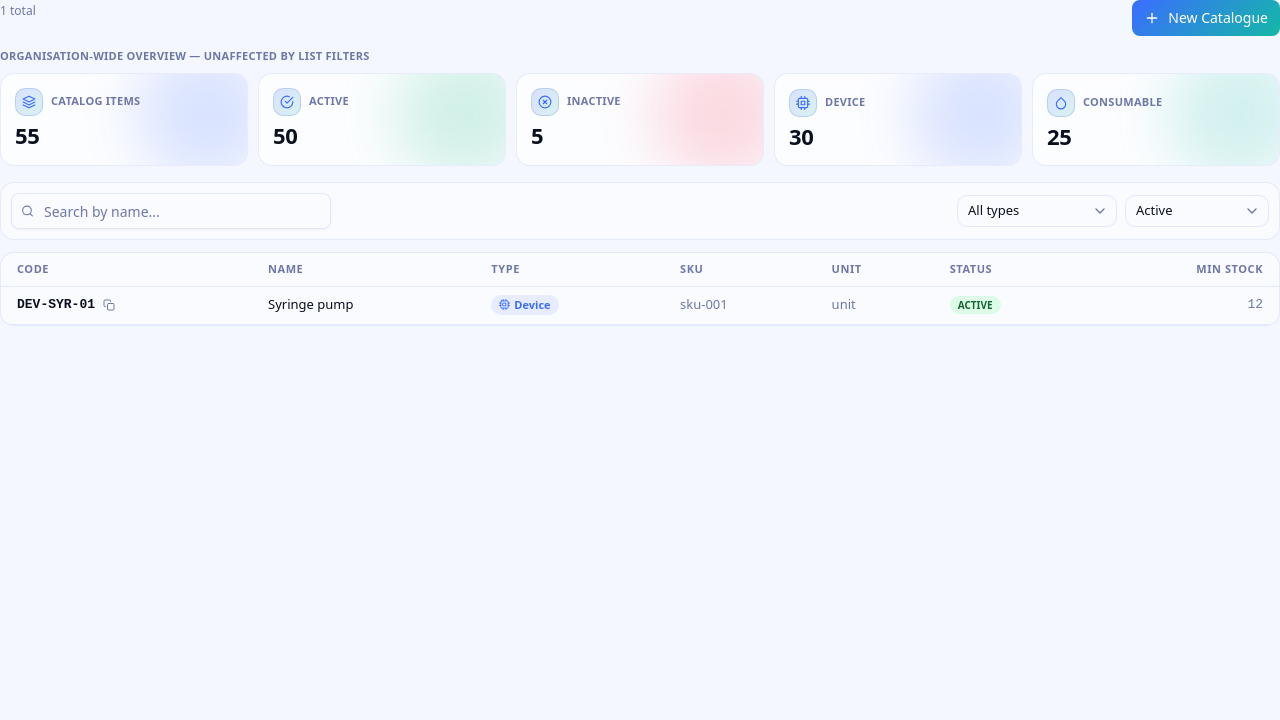
Scenario: InventoryMasterTab — row click opens a detail drawer, Edit lives inside it › a manager clicks a row to open the drawer, then Edit inside it to open the edit modal
The width and height of the screenshot is (1280, 720).
Click the text "Syringe pump" at (311, 304), box [252,286,475,324]
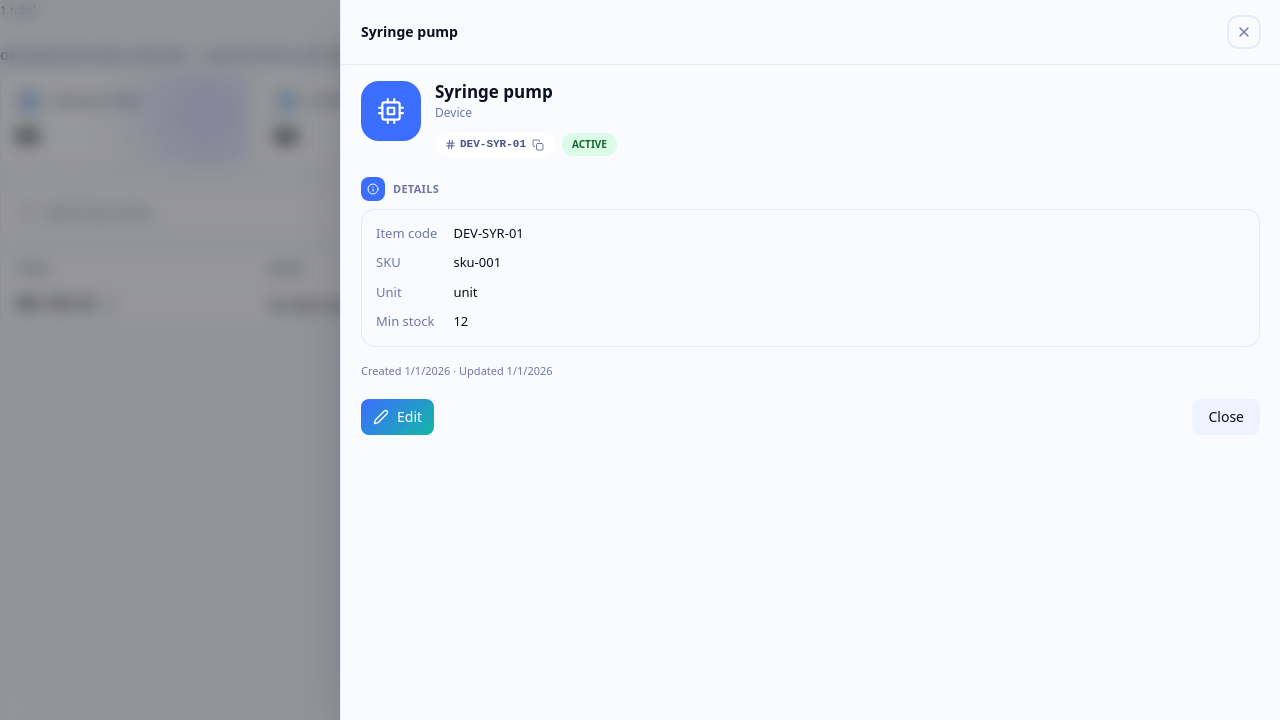
Click the button "Edit" at (398, 417), box [361,399,434,435]
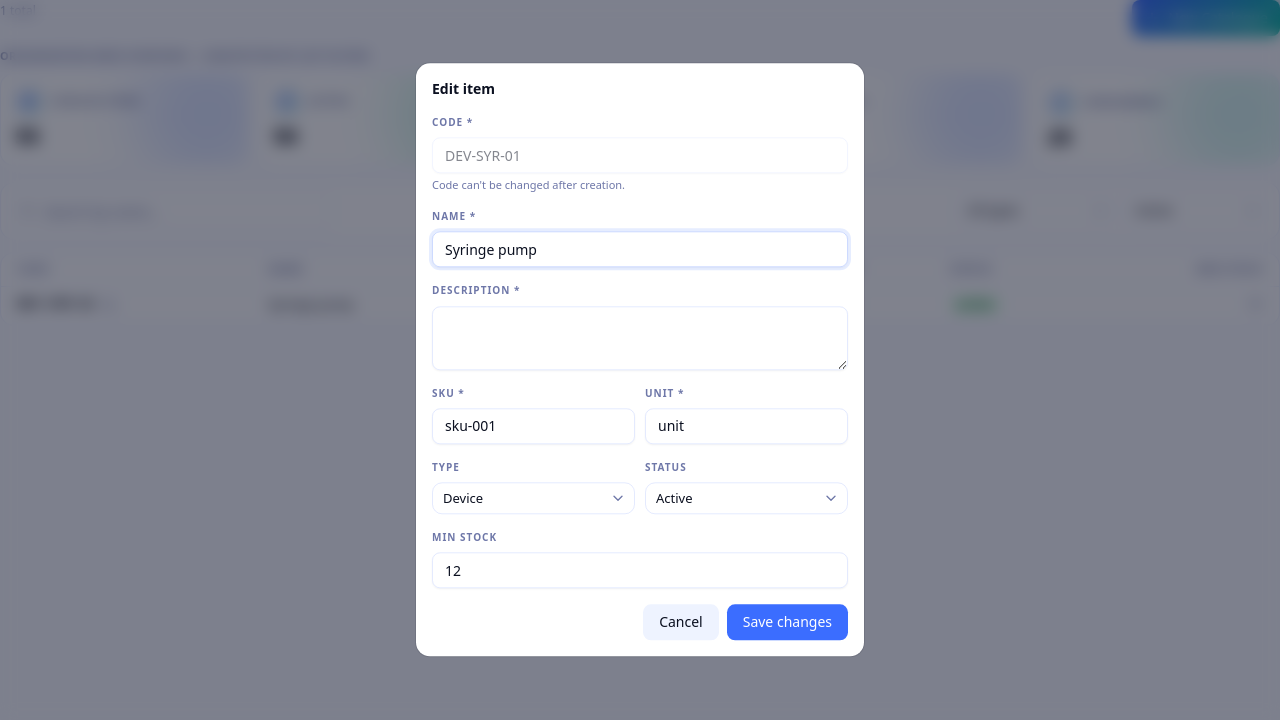
Now the heading "Edit item" is shown, box [432,79,495,98]
